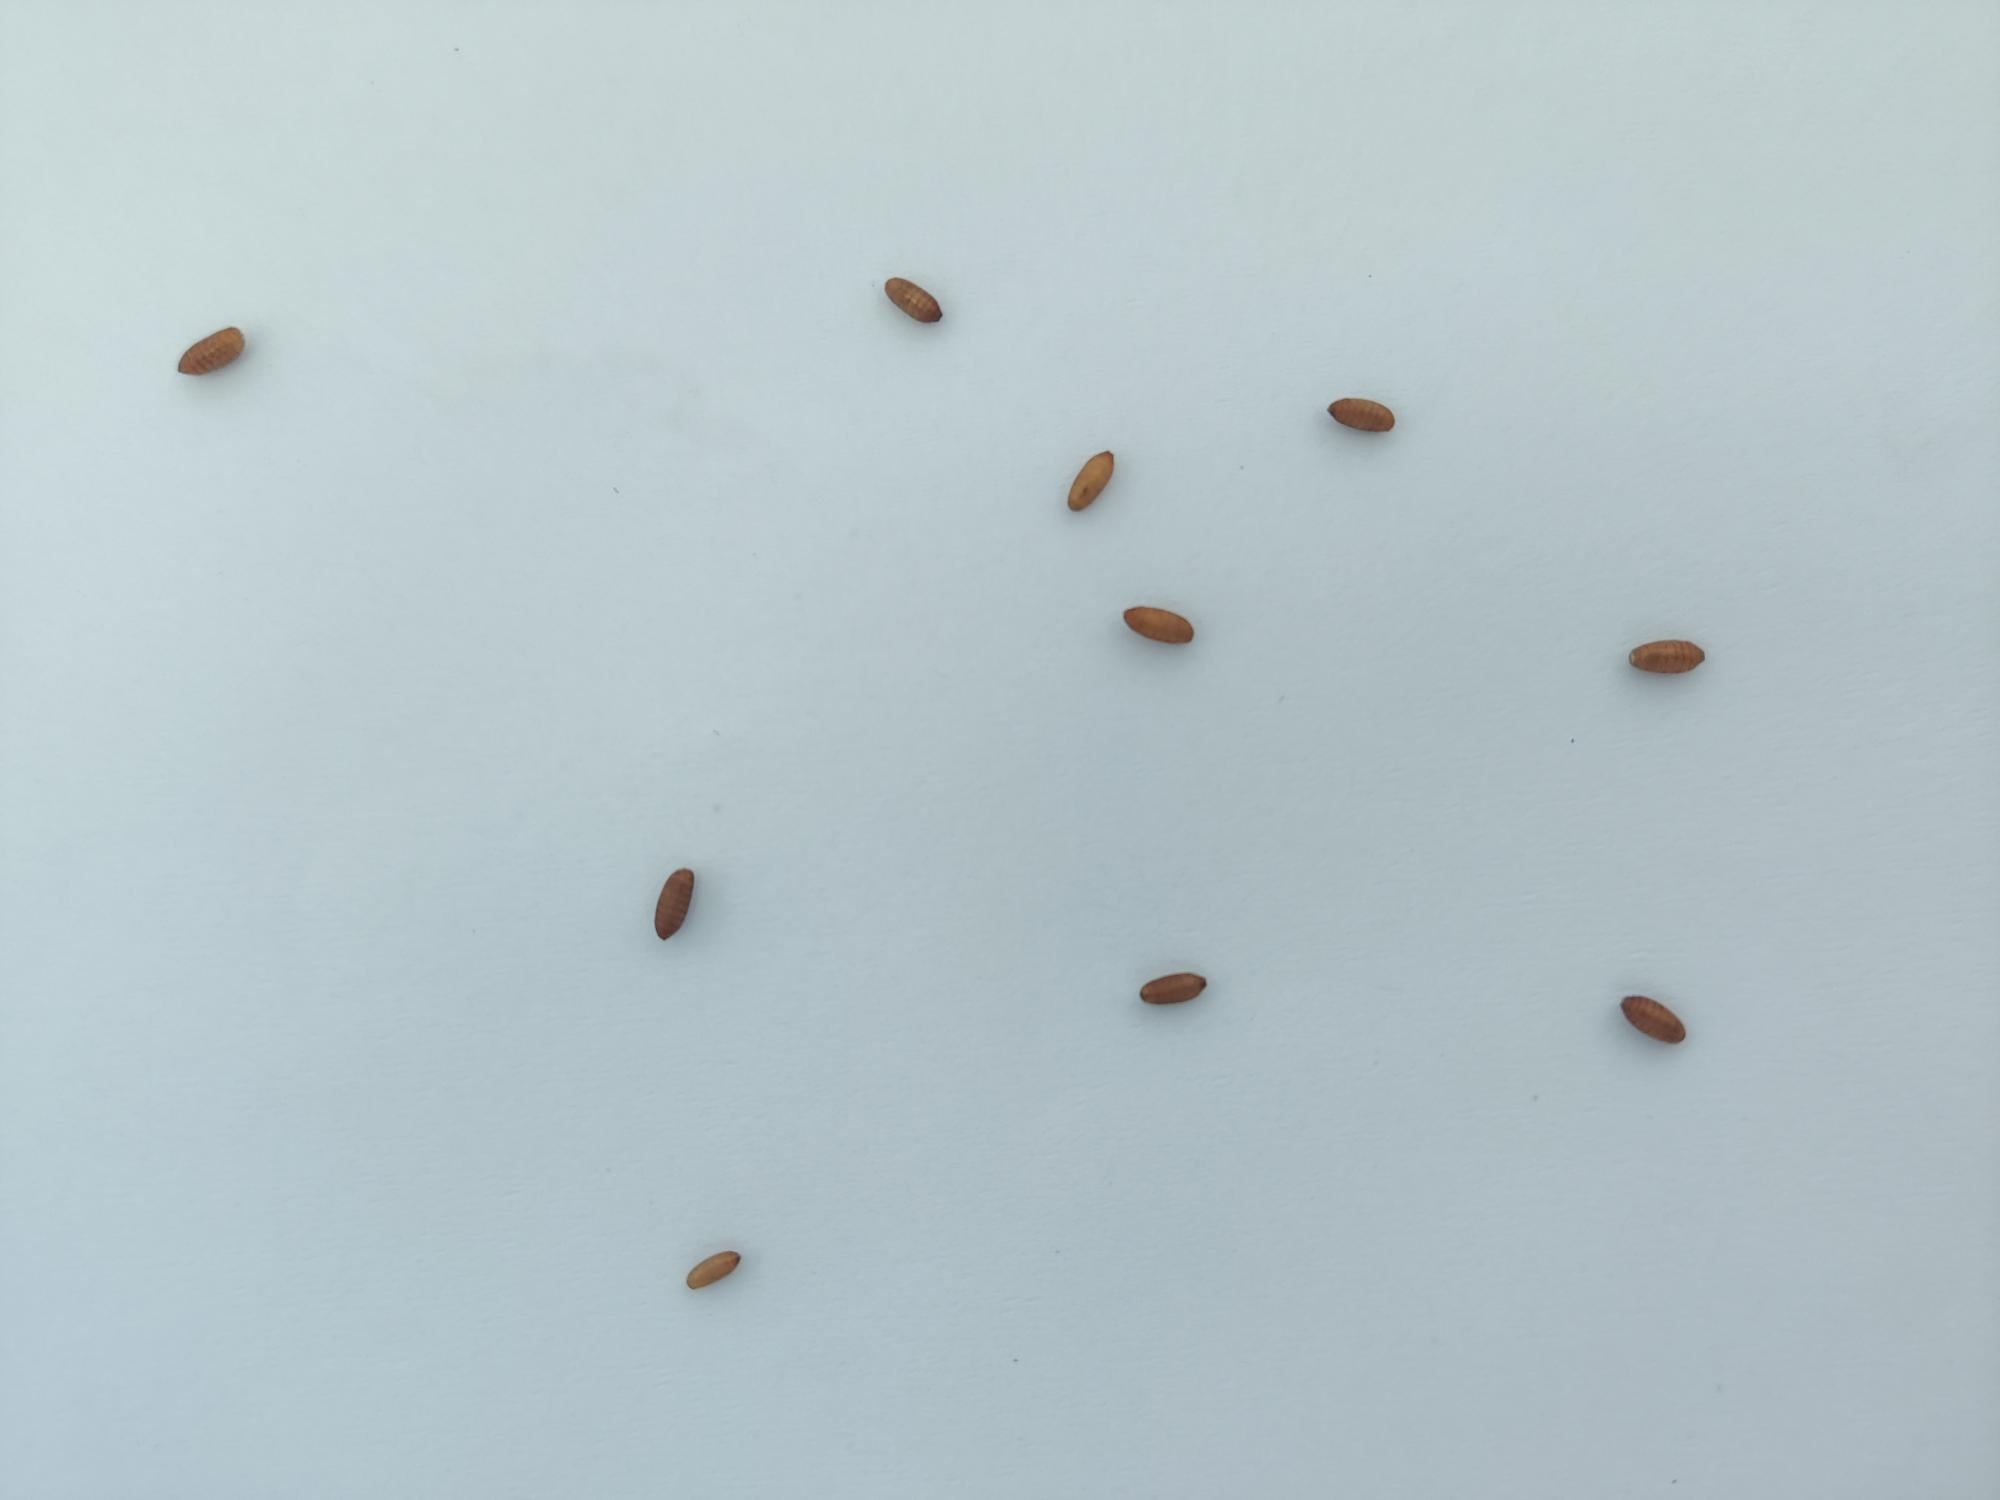pupae: (1609, 988, 1698, 1056), (170, 320, 255, 386), (1131, 958, 1217, 1021), (1058, 441, 1126, 522), (647, 862, 702, 953), (676, 1238, 751, 1305), (1112, 600, 1203, 652), (1622, 632, 1723, 676), (880, 271, 953, 329), (1320, 392, 1400, 438)
